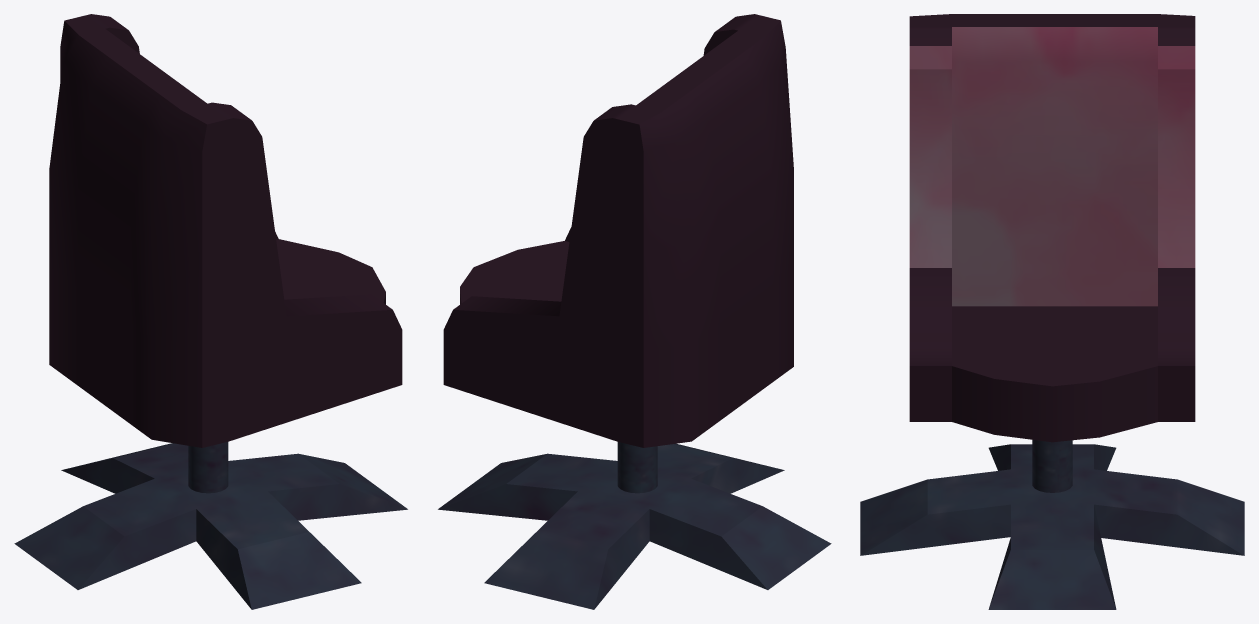
The model's file is ControlRoom_Chair.fbx.
3 views of the same model, side by side, from view 1: azimuth 30°, elevation 25°; view 2: azimuth 150°, elevation 25°; view 3: azimuth 270°, elevation 25° (orthographic).
Visible parts, largest first — view 1: ChairControlroom; view 2: ChairControlroom; view 3: ChairControlroom.
Part boxes in pixels (x1,y1,x2,y2): ChairControlroom: (14,14,407,609); ChairControlroom: (438,14,831,609); ChairControlroom: (860,14,1244,609).
Size of the model in its own units: 76.36 by 104 by 76.36.
